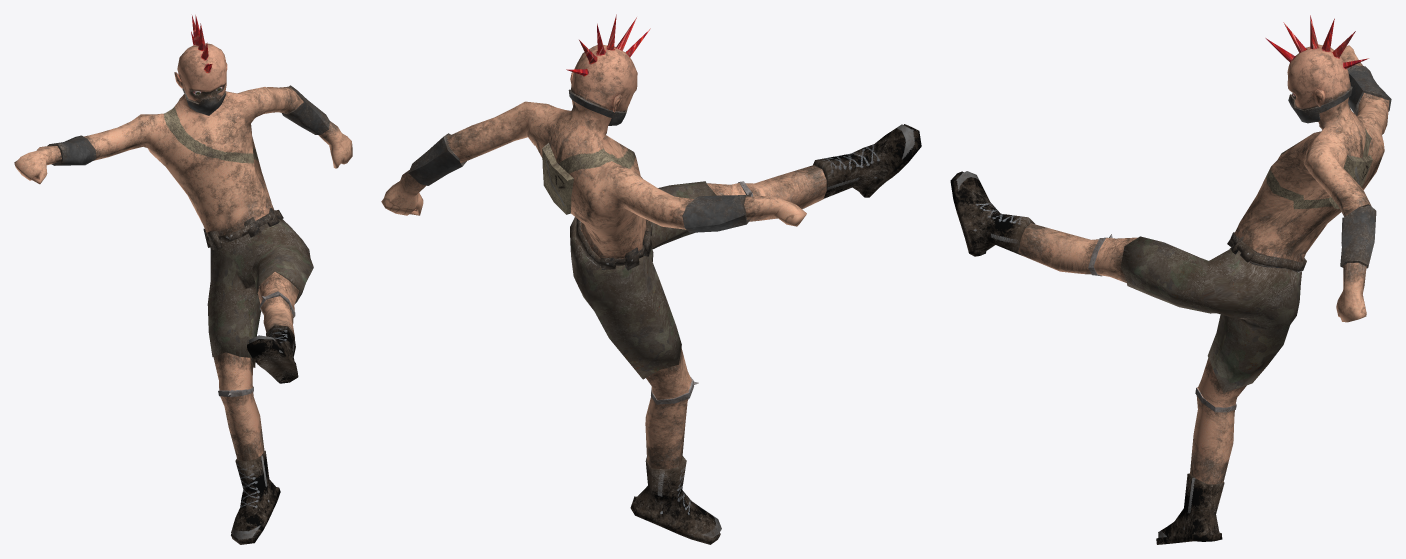
Rendered from Anim_ataque_f3_npc2.0030.obj.
3 renders of one model, left to right at view 1: azimuth 30°, elevation 25°; view 2: azimuth 150°, elevation 25°; view 3: azimuth 270°, elevation 25°, orthographic. The views are drawn at different scales.
Visible parts, largest first — view 1: polySurface1; view 2: polySurface1; view 3: polySurface1.
Boxes of the visible parts, left/top/right/bottom form: polySurface1: left=14, top=15, right=352, bottom=544; polySurface1: left=381, top=14, right=921, bottom=544; polySurface1: left=950, top=15, right=1391, bottom=544.
Size of the model in its own units: 7.63 by 10.07 by 7.42.
